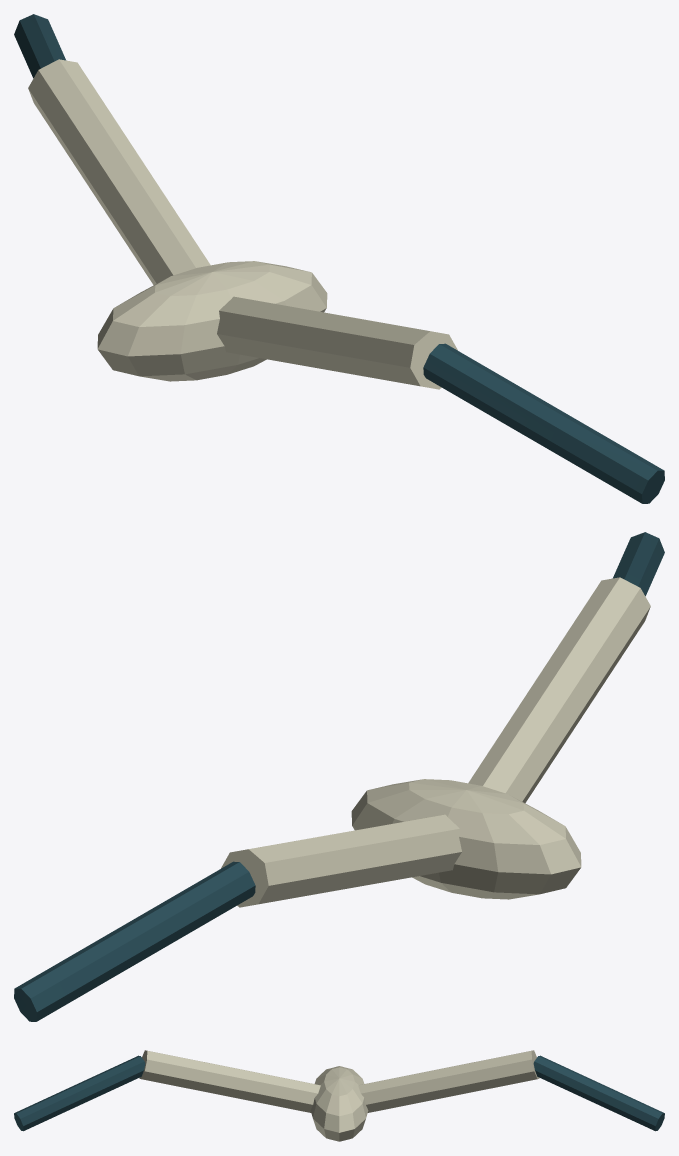
File: harbor-gull.glb
3 renders of one model, top to bottom at view 1: azimuth 30°, elevation 25°; view 2: azimuth 150°, elevation 25°; view 3: azimuth 270°, elevation 25°, orthographic. The views are drawn at different scales.
Parts seen in each view (by area): view 1: Harbor-Gull-Static; view 2: Harbor-Gull-Static; view 3: Harbor-Gull-Static.
Part boxes in pixels (x1,y1,x2,y2): Harbor-Gull-Static: (14, 14, 664, 503); Harbor-Gull-Static: (14, 532, 664, 1021); Harbor-Gull-Static: (14, 1050, 664, 1141).
Size of the model in its own units: 0.2395 by 0.1462 by 0.9949.
